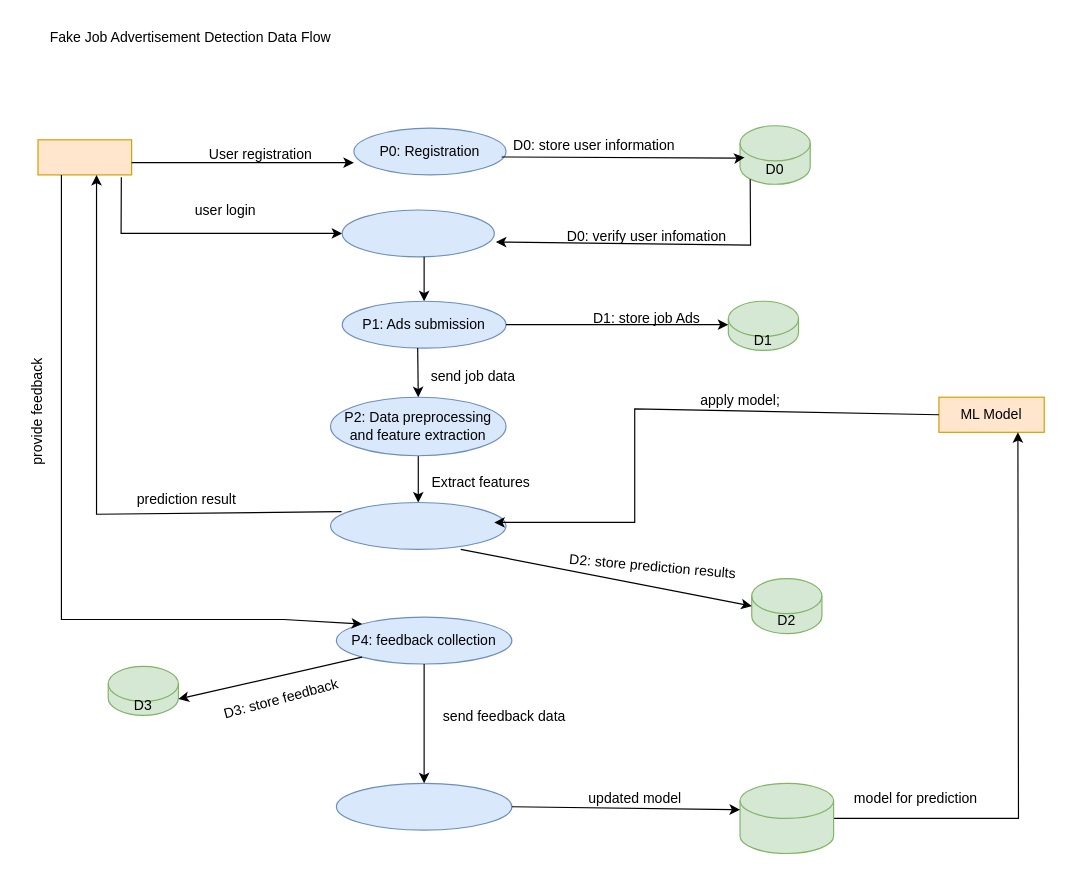
Image size: 1065x874. Some labels were removed from this diagram. Each missing label, with the box of its shape:
D4: model repository: (739, 782, 834, 854)
P0,1: Login: (341, 209, 494, 257)
P3: Job Ads detection: (329, 501, 506, 549)
P5: model training and updating: (335, 782, 512, 830)
User: (37, 139, 132, 175)
